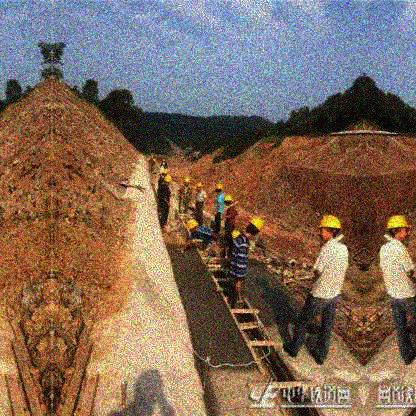helmet: (386, 215, 411, 246), (317, 215, 342, 244), (244, 217, 263, 239), (188, 219, 198, 234), (223, 194, 232, 207), (164, 176, 172, 186), (215, 184, 223, 193), (184, 178, 190, 186), (197, 183, 202, 192), (162, 159, 166, 166)
